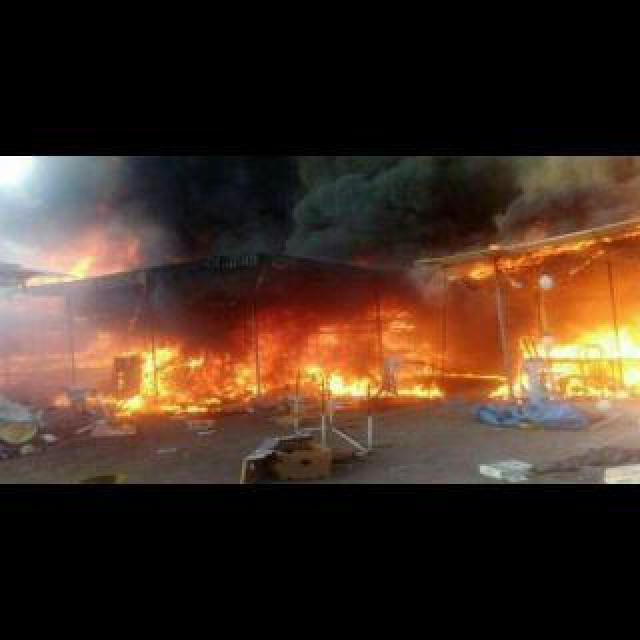Fire: (62, 302, 442, 410), (498, 320, 636, 400)
